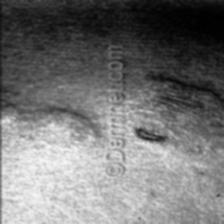Unclassified: (18, 108, 102, 150), (132, 121, 166, 143)
